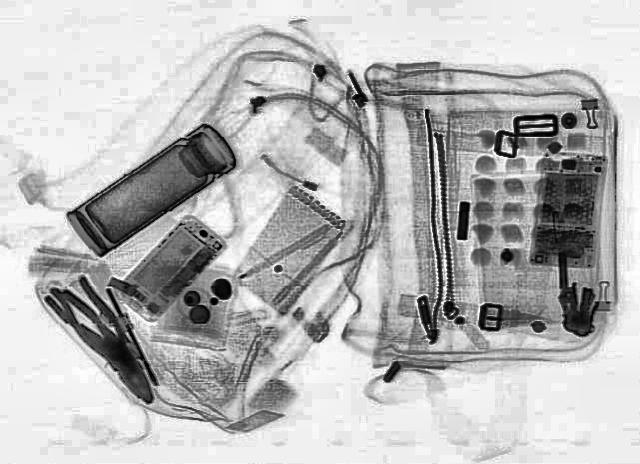Pliers: (40, 274, 174, 412)
